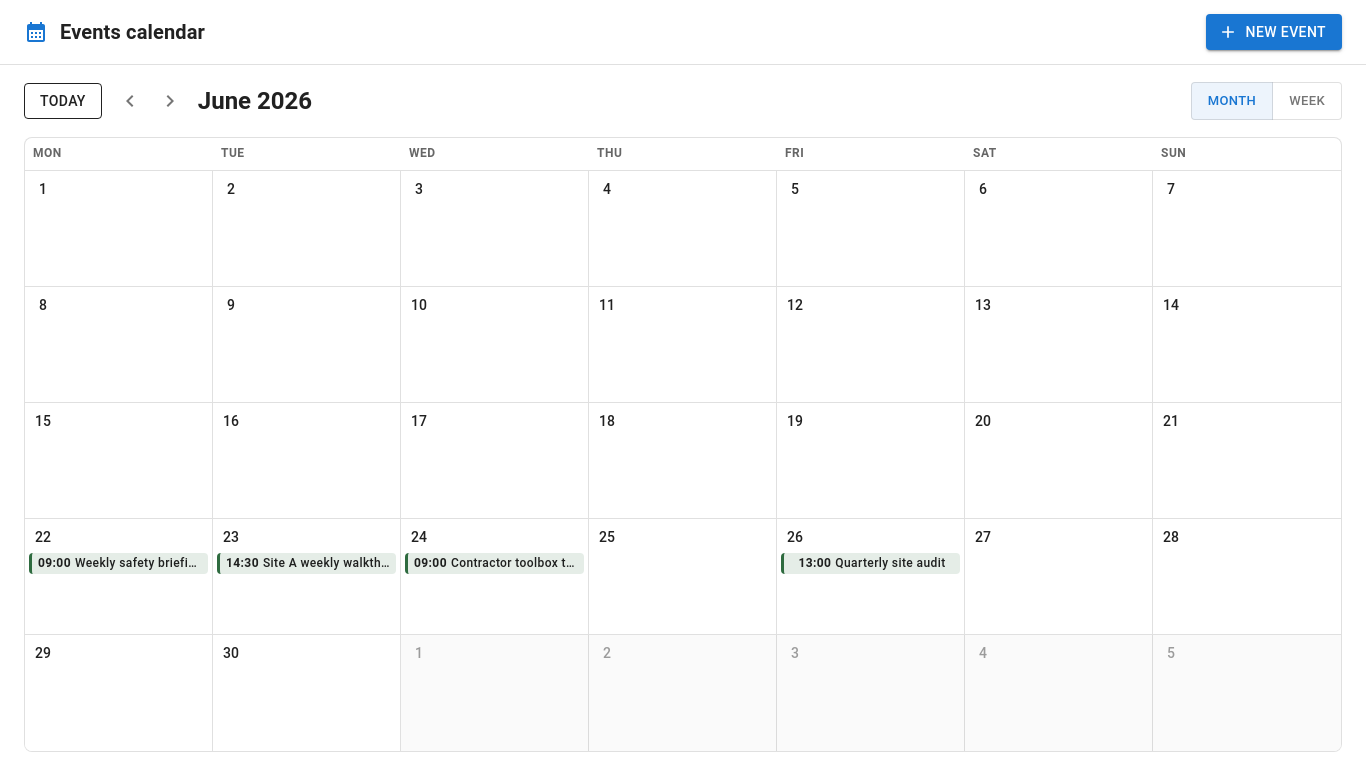
CalendarApp › switches to the week view and moves between weeks
Click the button "Week" at (1307, 101), box [1272,82,1342,120]
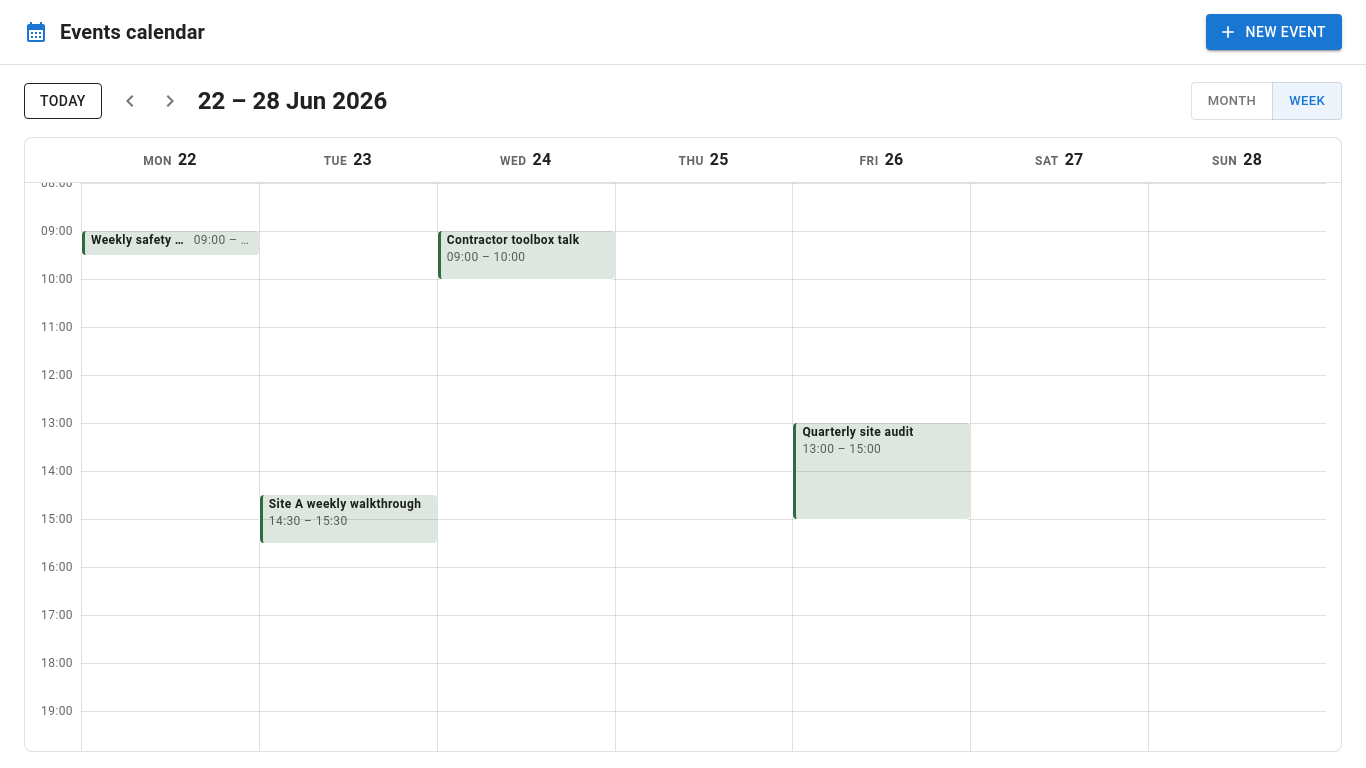
Result: the heading "22 – 28 Jun 2026" is shown at [198,87,387,115]
Click the button named "Next week" at (170, 101), box [150,81,190,121]
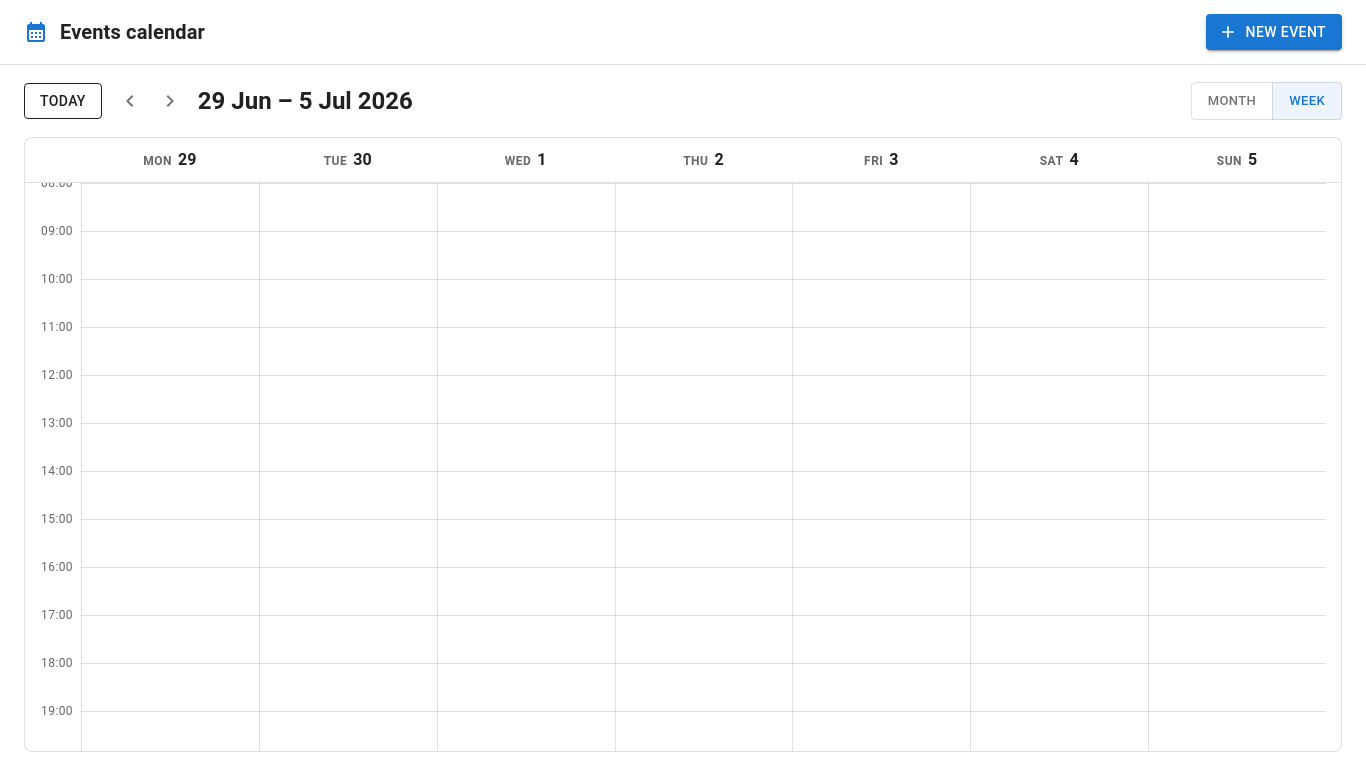
Result: the heading "29 Jun – 5 Jul 2026" is shown at [198,87,413,115]
Click the button named "Previous week" at (130, 101), box [110,81,150,121]
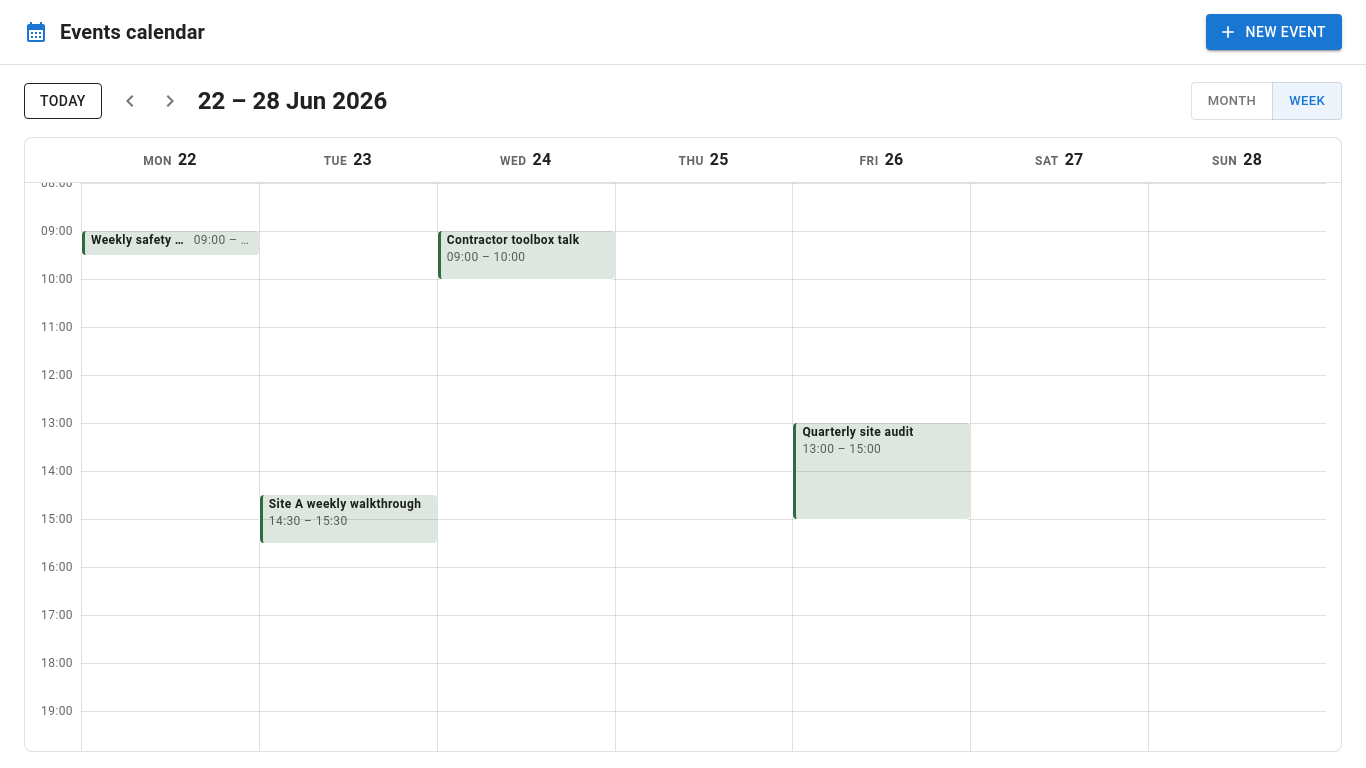
Result: the heading "22 – 28 Jun 2026" is shown at [198,87,387,115]
